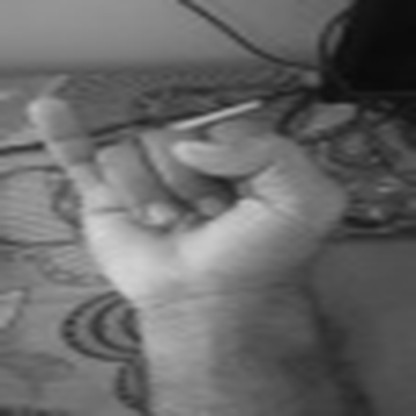i: (20, 78, 383, 302)
